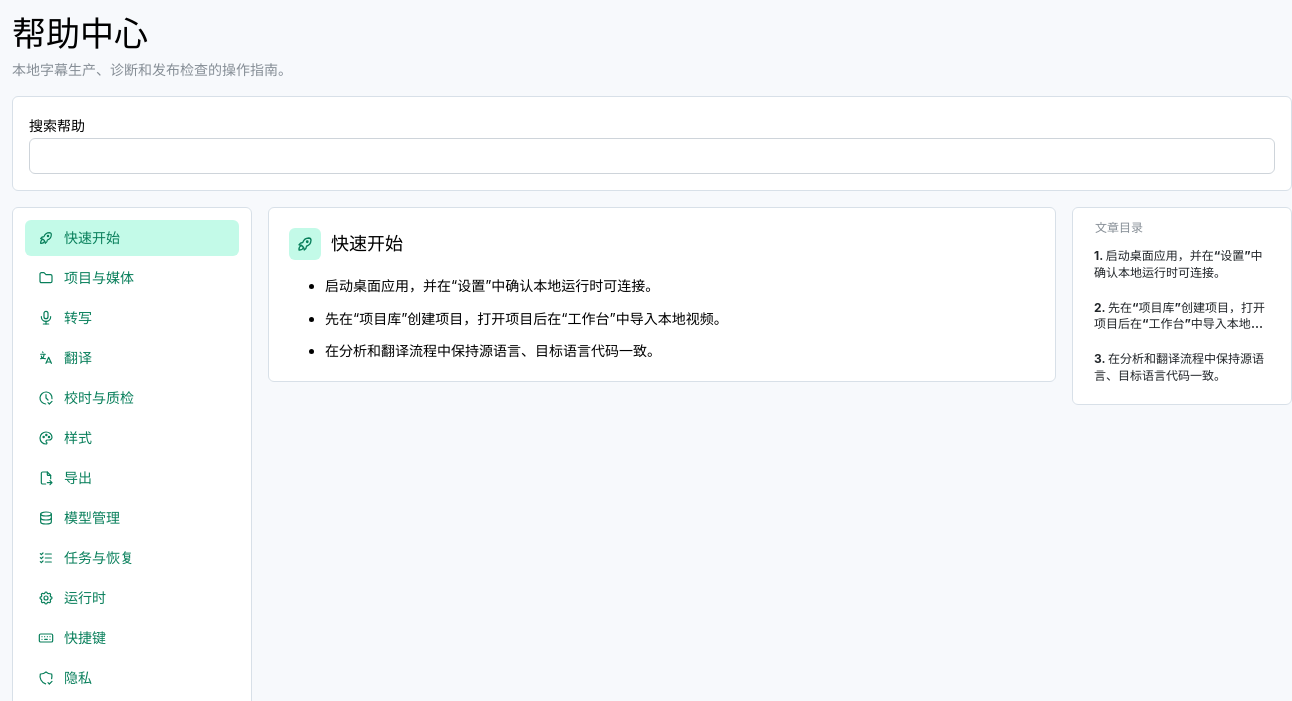
Scenario: HelpPage › switches Chinese help topics as single articles
Expected: the heading "帮助中心" is shown, [12, 13, 148, 54]
Click the button "模型管理" at x=132, y=518, box [25, 500, 239, 536]
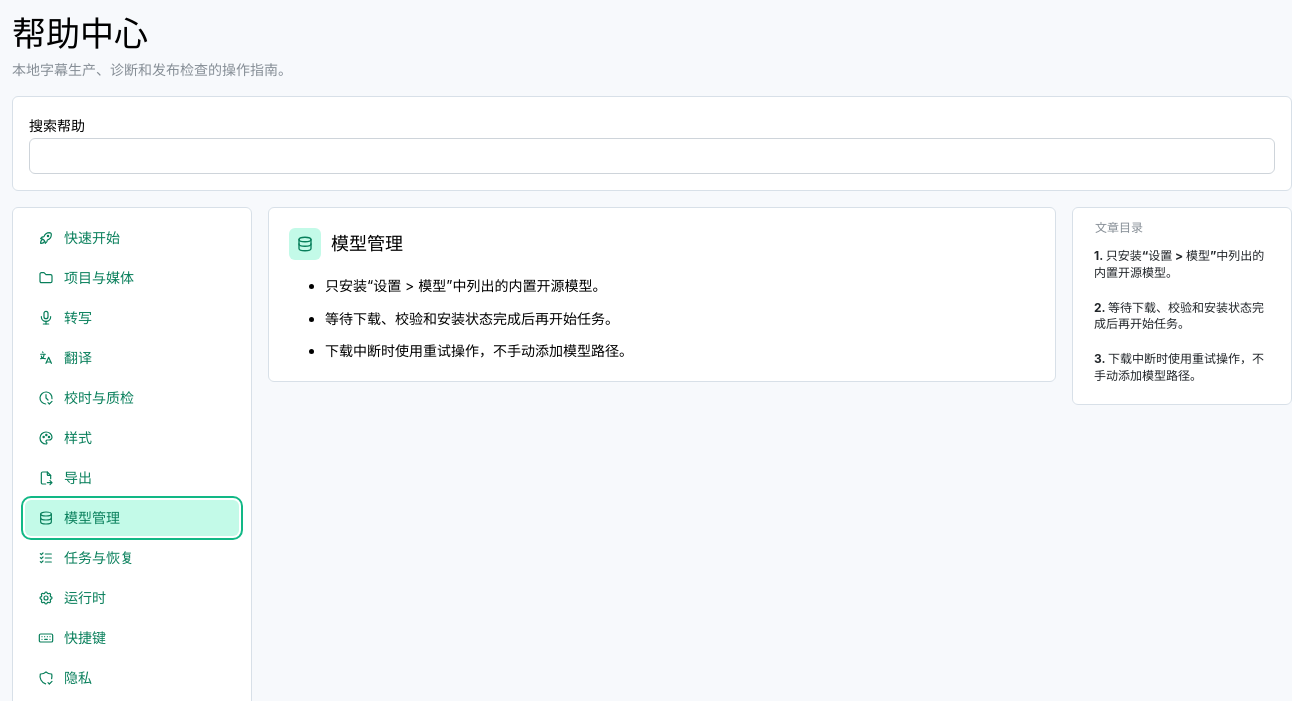
Expected: the navigation bar "文章目录" is shown, [1085, 220, 1279, 392]
Expected: the element "模型管理" is shown, [268, 207, 1056, 382]
Expected: the text "只安装“设置 > 模型”中列出的内置开源模型。" is shown, [325, 276, 606, 297]
